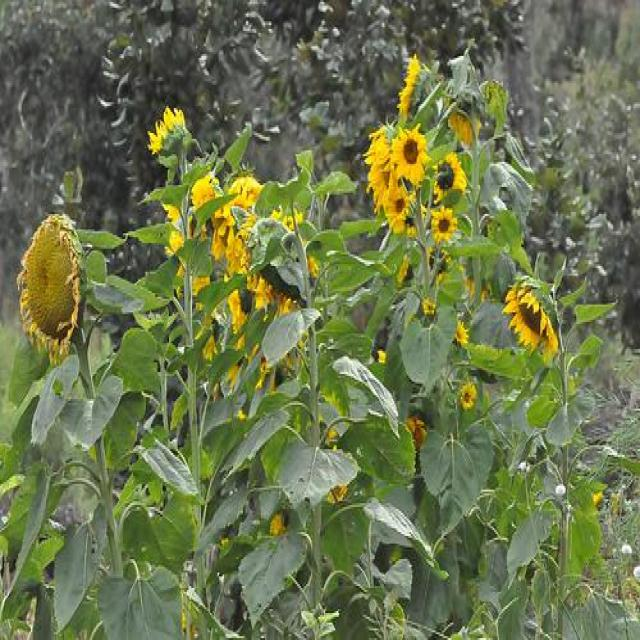sunflower: (18, 214, 86, 364), (503, 286, 559, 366), (391, 123, 428, 187), (380, 184, 412, 230), (432, 156, 467, 197), (430, 207, 458, 246)
